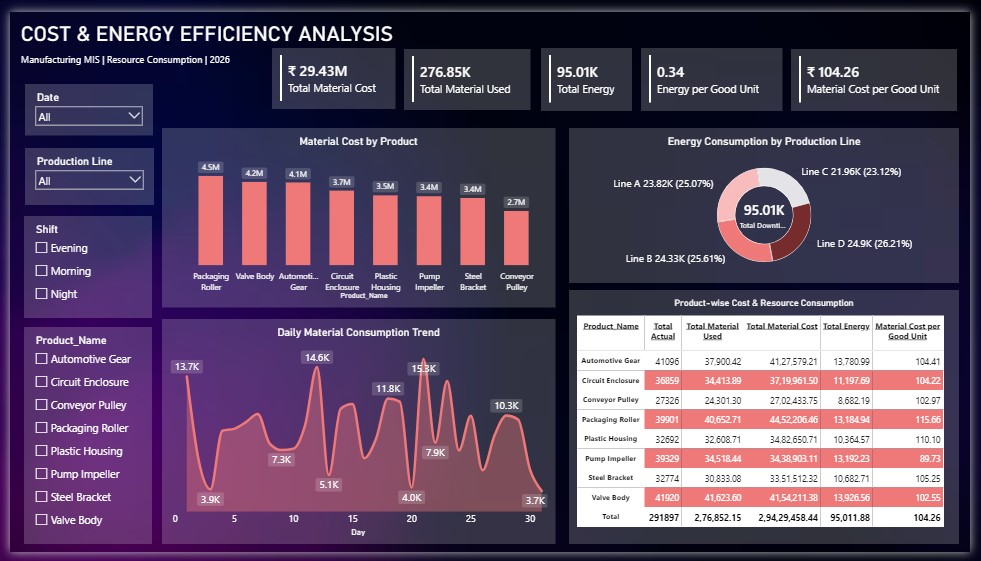

What the dashboard file says about the page in this screenshot:
{"tool":"powerbi","page":{"name":"Cost & Energy Analysis","canvas":[1920,1080],"ordinal":2},"visuals":[{"type":"textbox","title":"COST & ENERGY EFFICIENCY ANALYSIS","box":[22.1,18.1,812,112],"z":0},{"type":"cardVisual","fields":{"Data":["manufacturing_mis.Total Material Cost"]},"box":[524.4,72.3,246.7,122.3],"z":1000},{"type":"cardVisual","fields":{"Data":["manufacturing_mis.Total Material Used"]},"box":[788.6,74.3,253.1,122.3],"z":2000},{"type":"cardVisual","fields":{"Data":["manufacturing_mis.Material Cost per Good Unit"]},"box":[1562.8,74.3,332.4,123.9],"z":3000},{"type":"cardVisual","fields":{"Data":["manufacturing_mis.Total Energy"]},"box":[1061.2,72.3,181.7,125.9],"z":4000},{"type":"clusteredColumnChart","title":"Material Cost by Product","fields":{"Category":["manufacturing_mis.Product_Name"],"Y":["manufacturing_mis.Total Material Cost"]},"box":[303.5,231.2,786.6,359.2],"z":5000},{"type":"donutChart","title":"Energy Consumption by Production Line","fields":{"Category":["manufacturing_mis.Production_Line"],"Y":["manufacturing_mis.Total Energy"]},"box":[1119,231.2,780.4,309.7],"z":6000},{"type":"slicer","fields":{"Values":["manufacturing_mis.Production_Date.Variation.Date Hierarchy.Year","manufacturing_mis.Production_Date.Variation.Date Hierarchy.Month"]},"box":[31,144.5,256,103.2],"z":7000},{"type":"slicer","fields":{"Values":["manufacturing_mis.Production_Line"]},"box":[30.7,272.7,258.1,113.5],"z":8000},{"type":"slicer","fields":{"Values":["manufacturing_mis.Product_Name"]},"box":[28.9,629.7,256,433.5],"z":9000},{"type":"areaChart","title":"Daily Material Consumption Trend","fields":{"Category":["manufacturing_mis.Production_Date.Variation.Date Hierarchy.Day"],"Y":["manufacturing_mis.Total Material Used"]},"box":[303.5,613.2,786.6,450.1],"z":10000},{"type":"pivotTable","title":"Product-wise Cost & Resource Consumption","fields":{"Rows":["manufacturing_mis.Product_Name"],"Values":["manufacturing_mis.Total Actual","manufacturing_mis.Total Material Used","manufacturing_mis.Total Material Cost","manufacturing_mis.Total Energy","manufacturing_mis.Material Cost per Good Unit"]},"box":[1119,555.4,780.4,507.9],"z":11000},{"type":"slicer","fields":{"Values":["manufacturing_mis.Shift"]},"box":[28.9,408.8,256,204.4],"z":12000},{"type":"cardVisual","fields":{"Data":["manufacturing_mis.Energy per Good Unit"]},"box":[1261.4,72.3,282.8,125.9],"z":13000}]}

Visuals, with their boxes in screenshot pixels (x1, y1, x2, y2), scaled from the page's 1920x1080 canvas onto the 981x561 screenshot:
"COST & ENERGY EFFICIENCY ANALYSIS" textbox: [11, 9, 426, 68]
cardVisual - manufacturing_mis.Total Material Cost: [268, 38, 394, 101]
cardVisual - manufacturing_mis.Total Material Used: [403, 39, 532, 102]
cardVisual - manufacturing_mis.Material Cost per Good Unit: [798, 39, 968, 103]
cardVisual - manufacturing_mis.Total Energy: [542, 38, 635, 103]
"Material Cost by Product" clusteredColumnChart: [155, 120, 557, 307]
"Energy Consumption by Production Line" donutChart: [572, 120, 970, 281]
slicer - manufacturing_mis.Production_Date.Variation.Date Hierarchy.Year x manufacturing_mis.Production_Date.Variation.Date Hierarchy.Month: [16, 75, 147, 129]
slicer - manufacturing_mis.Production_Line: [16, 142, 148, 201]
slicer - manufacturing_mis.Product_Name: [15, 327, 146, 552]
"Daily Material Consumption Trend" areaChart: [155, 319, 557, 552]
"Product-wise Cost & Resource Consumption" pivotTable: [572, 288, 970, 552]
slicer - manufacturing_mis.Shift: [15, 212, 146, 319]
cardVisual - manufacturing_mis.Energy per Good Unit: [644, 38, 789, 103]
